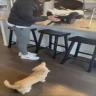dog: (4, 62, 50, 94)
